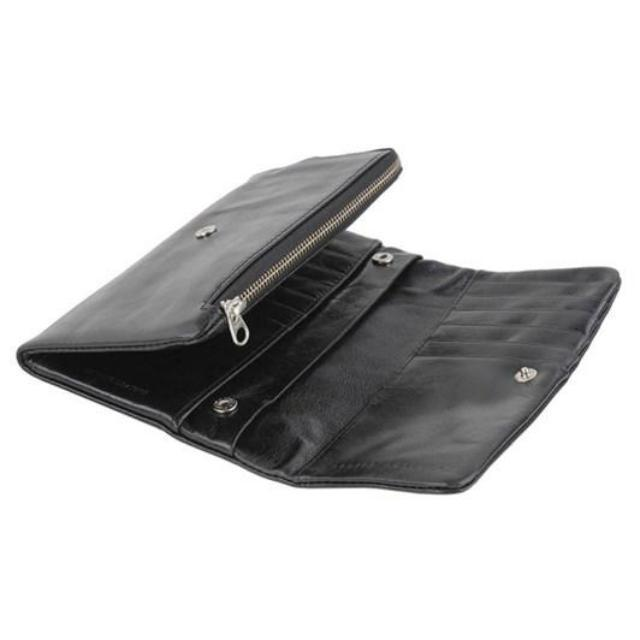wallet: (12, 148, 628, 504)
